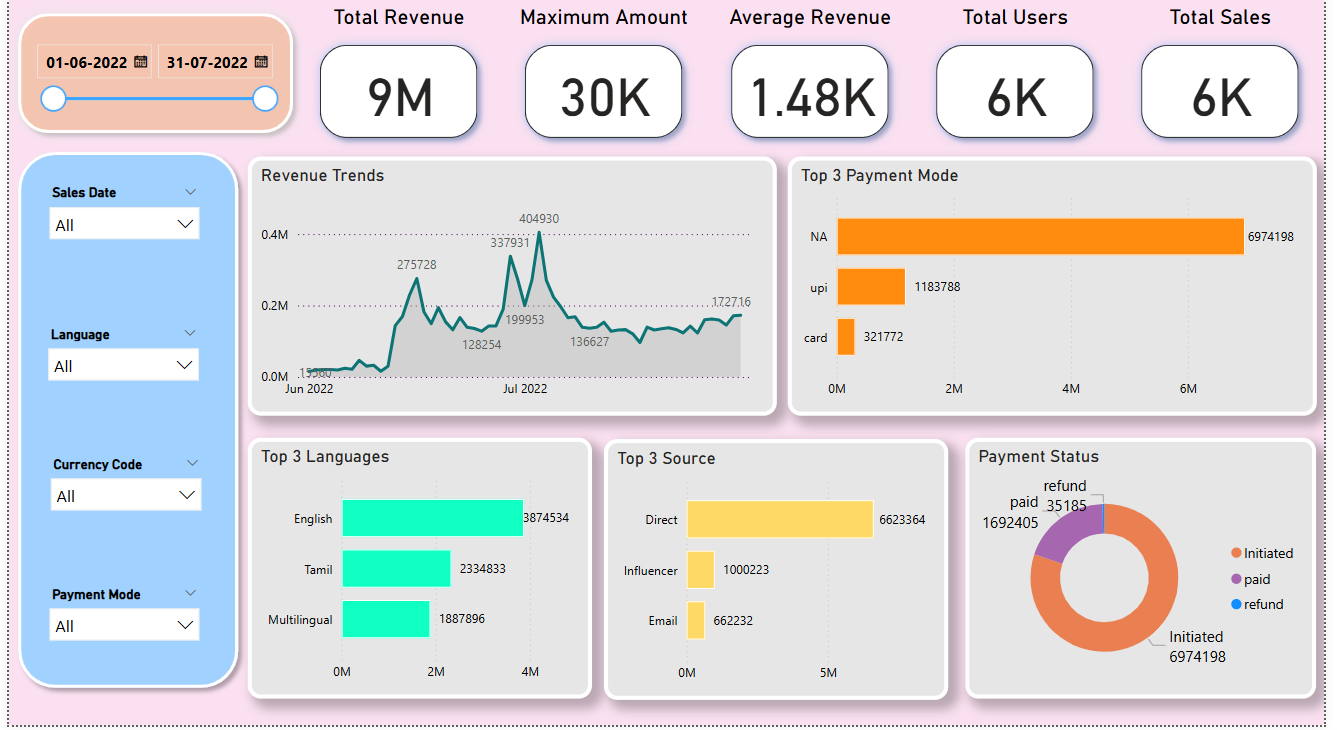

The page's visual inventory and layout, read from the dashboard file:
{"tool":"powerbi","page":{"name":"Page 1","canvas":[1287,720],"ordinal":0},"visuals":[{"type":"cardVisual","title":"Maximum Amount","fields":{"Data":["Sales data.Maximum Sales"]},"box":[488.2,14.7,188.3,149.2],"z":0},{"type":"cardVisual","title":"Average Revenue","fields":{"Data":["Sales data.Average"]},"box":[689.1,14.7,188.3,149.2],"z":1000},{"type":"cardVisual","title":"Total Users","fields":{"Data":["Sales data.Total users"]},"box":[889.9,14.7,188.3,149.2],"z":2000},{"type":"cardVisual","title":"Total Sales","fields":{"Data":["Sales data.Total Sales"]},"box":[1090.8,14.7,188.3,149.2],"z":3000},{"type":"lineChart","title":"Revenue Trends","fields":{"Category":["Sales data.Sales Date.Variation.Date Hierarchy.Year","Sales data.Sales Date.Variation.Date Hierarchy.Quarter","Sales data.Sales Date.Variation.Date Hierarchy.Month","Sales data.Sales Date.Variation.Date Hierarchy.Day"],"Y":["Sales data.Total Revenue"]},"box":[233.2,164.2,517.4,253.9],"z":4000},{"type":"shape","box":[0,15.2,287,135.2],"z":5000},{"type":"slicer","fields":{"Values":["Sales data.Sales Date"]},"box":[15.2,44.2,256.6,89.7],"z":6000},{"type":"donutChart","title":"Payment Status","fields":{"Category":["Sales data.Payment Status"],"Y":["Sales data.Total Revenue"]},"box":[935.5,438.8,343.6,255.2],"z":7000},{"type":"clusteredBarChart","title":"Top 3 Languages","fields":{"Category":["Product-language.Language"],"Y":["Sales data.Total Revenue"]},"box":[233.2,438.8,336.7,255.2],"z":8000},{"type":"shape","box":[0,150.4,233.2,542.2],"z":9000},{"type":"slicer","fields":{"Values":["Sales data.Payment Mode"]},"box":[29.9,579.5,166.9,75.9],"z":10000},{"type":"slicer","fields":{"Values":["Product-language.Language"]},"box":[28.1,325.7,167.5,75.8],"z":11000},{"type":"slicer","fields":{"Values":["Sales data.Sales Date"]},"box":[29.3,187.6,166.9,86.9],"z":12000},{"type":"slicer","fields":{"Values":["Sales data.Currency  Code"]},"box":[30.6,452.6,167.5,75.8],"z":13000},{"type":"cardVisual","title":"Total Revenue","fields":{"Data":["Sales data.Total Revenue"]},"box":[287.4,14.7,188.3,149.2],"z":14000},{"type":"clusteredBarChart","title":"Top 3 Payment Mode","fields":{"Y":["Sales data.Total Revenue"],"Category":["Sales data.Payment Mode"]},"box":[761.6,164.2,517.4,253.9],"z":15000},{"type":"clusteredBarChart","title":"Top 3 Source","fields":{"Y":["Sales data.Total Revenue"],"Category":["Sales data.Source"]},"box":[582.2,440.1,336.7,255.2],"z":16000}]}

Visuals, with their boxes in screenshot pixels (x1, y1, x2, y2), scaled from the page's 1287x720 canvas onto the 1337x730 screenshot:
"Maximum Amount" cardVisual: (left=507, top=15, right=703, bottom=166)
"Average Revenue" cardVisual: (left=716, top=15, right=911, bottom=166)
"Total Users" cardVisual: (left=924, top=15, right=1120, bottom=166)
"Total Sales" cardVisual: (left=1133, top=15, right=1329, bottom=166)
"Revenue Trends" lineChart: (left=242, top=166, right=780, bottom=424)
shape: (left=0, top=15, right=298, bottom=152)
slicer - Sales data.Sales Date: (left=16, top=45, right=282, bottom=136)
"Payment Status" donutChart: (left=972, top=445, right=1329, bottom=704)
"Top 3 Languages" clusteredBarChart: (left=242, top=445, right=592, bottom=704)
shape: (left=0, top=152, right=242, bottom=702)
slicer - Sales data.Payment Mode: (left=31, top=588, right=204, bottom=665)
slicer - Product-language.Language: (left=29, top=330, right=203, bottom=407)
slicer - Sales data.Sales Date: (left=30, top=190, right=204, bottom=278)
slicer - Sales data.Currency  Code: (left=32, top=459, right=206, bottom=536)
"Total Revenue" cardVisual: (left=299, top=15, right=494, bottom=166)
"Top 3 Payment Mode" clusteredBarChart: (left=791, top=166, right=1329, bottom=424)
"Top 3 Source" clusteredBarChart: (left=605, top=446, right=955, bottom=705)
